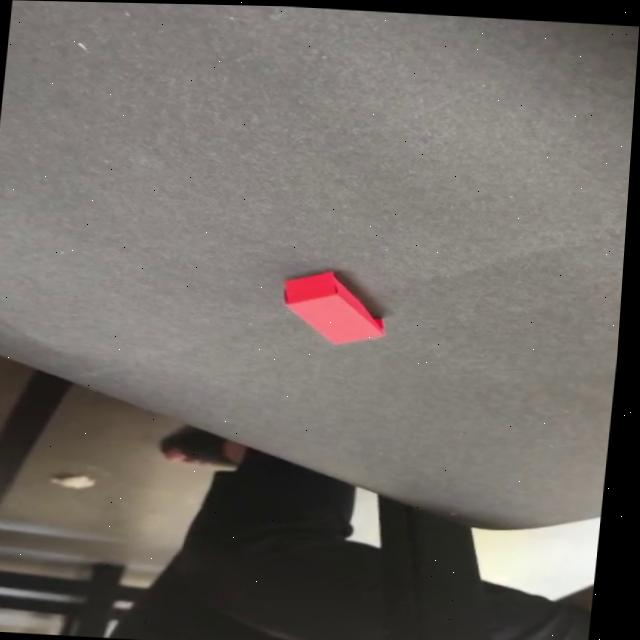red block: (274, 267, 390, 348)
